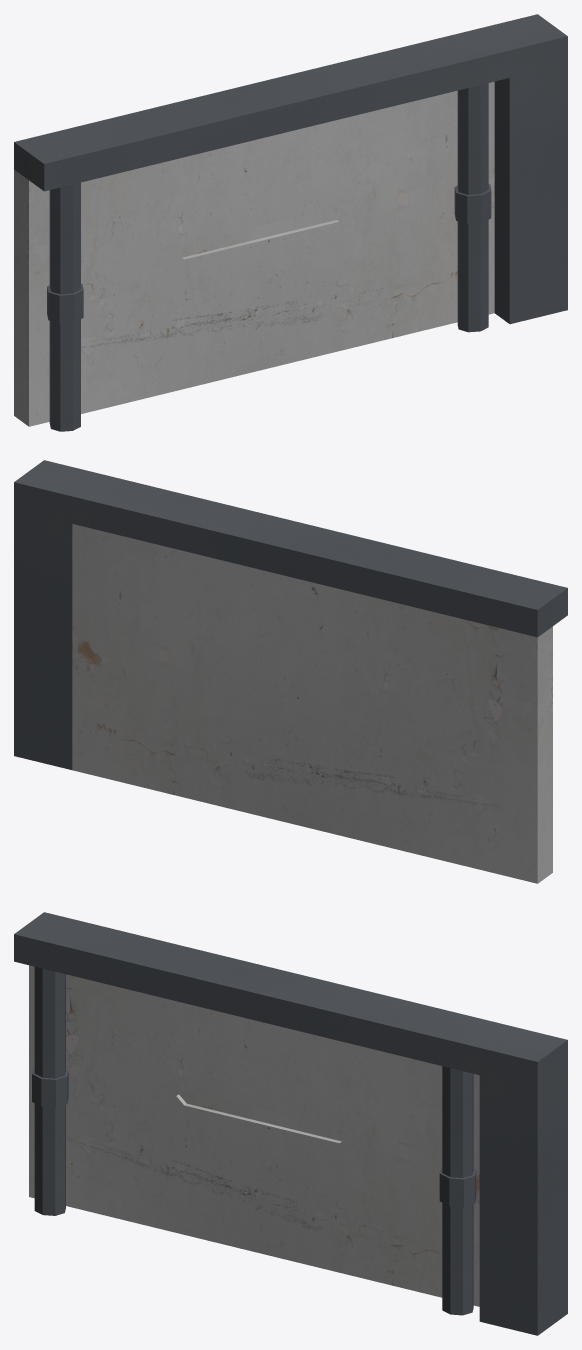
File: WallBottom.glb
3 renders of one model, top to bottom at view 1: azimuth 30°, elevation 25°; view 2: azimuth 150°, elevation 25°; view 3: azimuth 330°, elevation 25°, orthographic.
Visible parts, largest first — view 1: WallBottom; view 2: WallBottom; view 3: WallBottom.
Part boxes in pixels (x1,y1,x2,y2): WallBottom: [14, 14, 567, 431]; WallBottom: [14, 460, 567, 883]; WallBottom: [14, 912, 567, 1335].
Bounding box in the file's own units: 8 × 4 × 0.8344.
2 materials, 2 textured.
